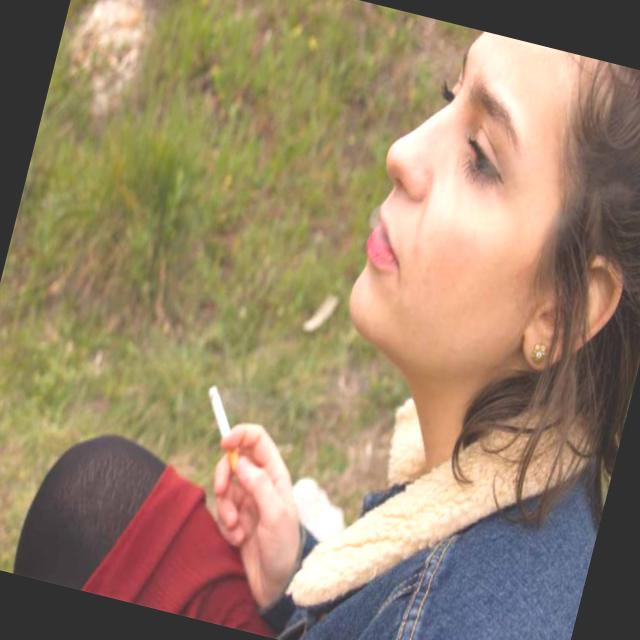cigarette: (189, 379, 262, 475)
